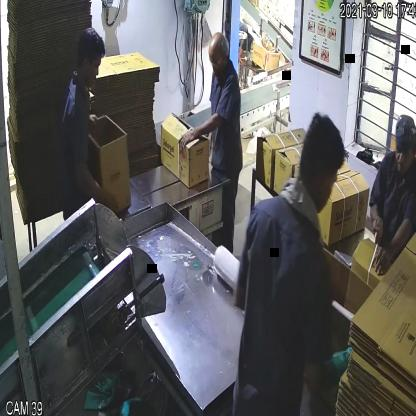no_glove: (170, 97, 226, 163), (72, 149, 125, 212), (375, 206, 416, 277)
